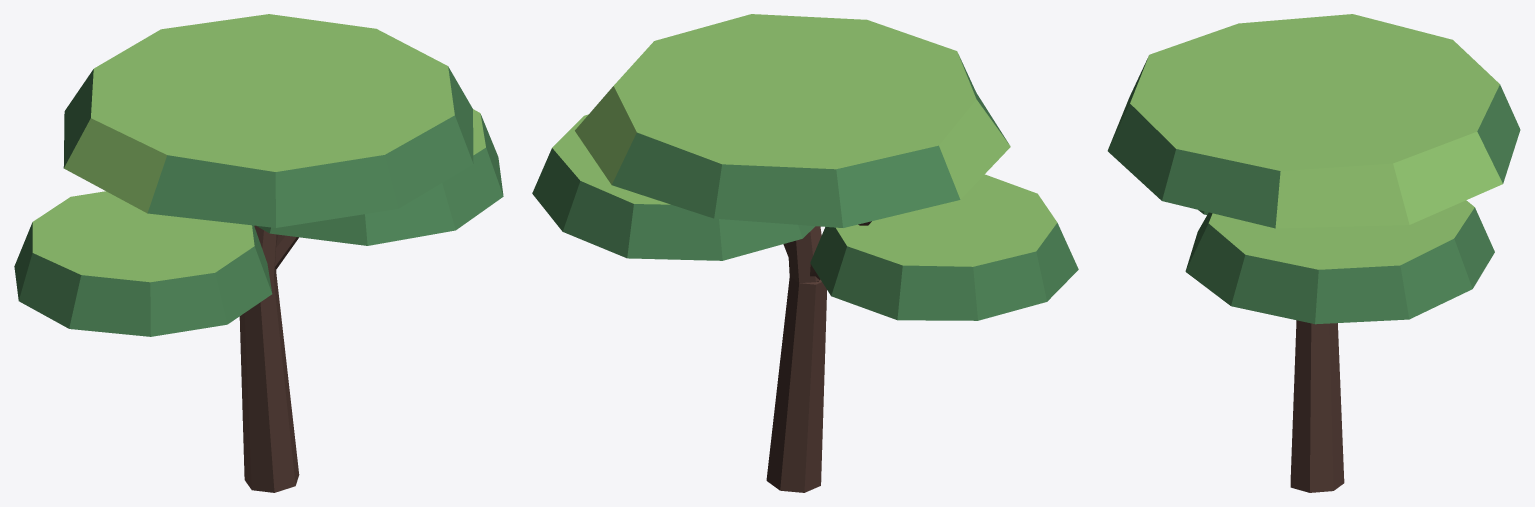
Rendered from tree_acacia.glb.
3 views of the same model, side by side, from view 1: azimuth 30°, elevation 25°; view 2: azimuth 150°, elevation 25°; view 3: azimuth 270°, elevation 25° (orthographic).
Visible parts, largest first — view 1: tree_acacia; view 2: tree_acacia; view 3: tree_acacia.
Boxes of the visible parts, box(x1,y1,x2,y2) form: tree_acacia: box(14, 14, 503, 492); tree_acacia: box(532, 14, 1078, 492); tree_acacia: box(1107, 14, 1520, 492).
Bounding box in the file's own units: 10.8 × 8.41 × 8.05.
